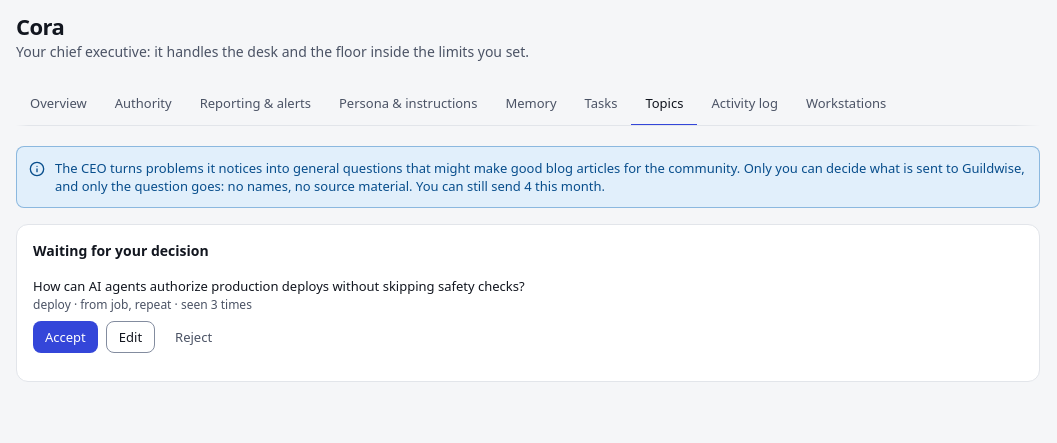
Test case: the Topics tab › shows the findings of the server when Accept is refused, with the proper-noun confirmation
Click the button "Accept" at [65, 337], box [33,321,98,353]
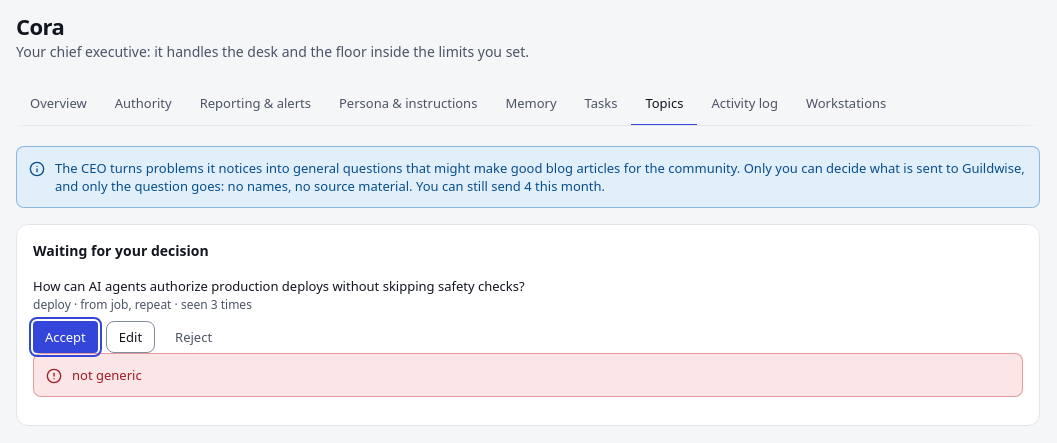
Check: the message "not generic" is shown, box [33,353,1023,397]
